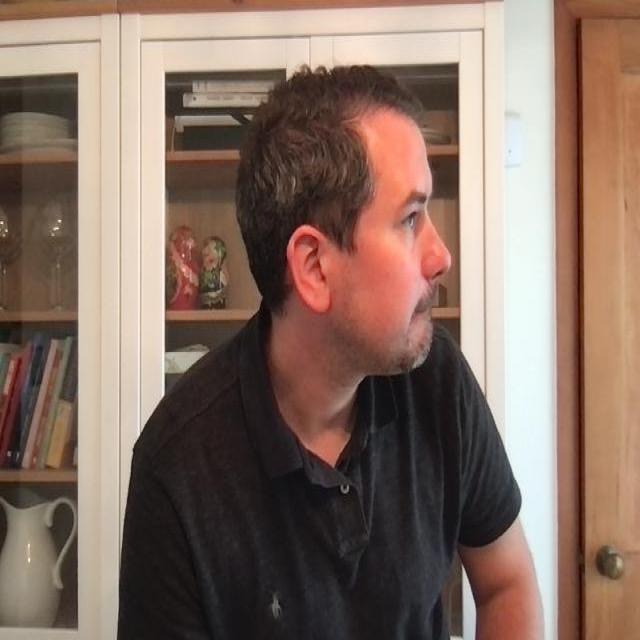face: (234, 64, 447, 377)
